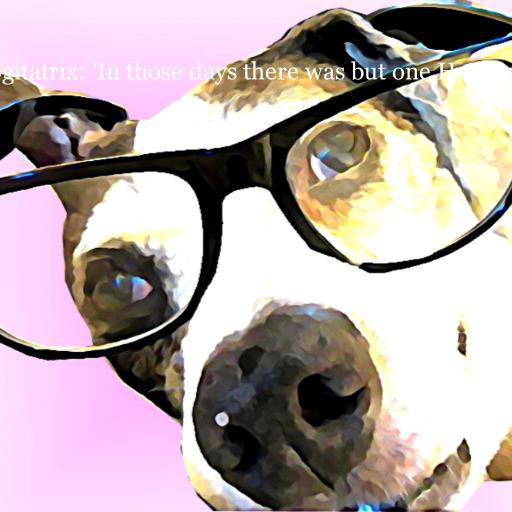Georgia: (0, 61, 512, 85)
